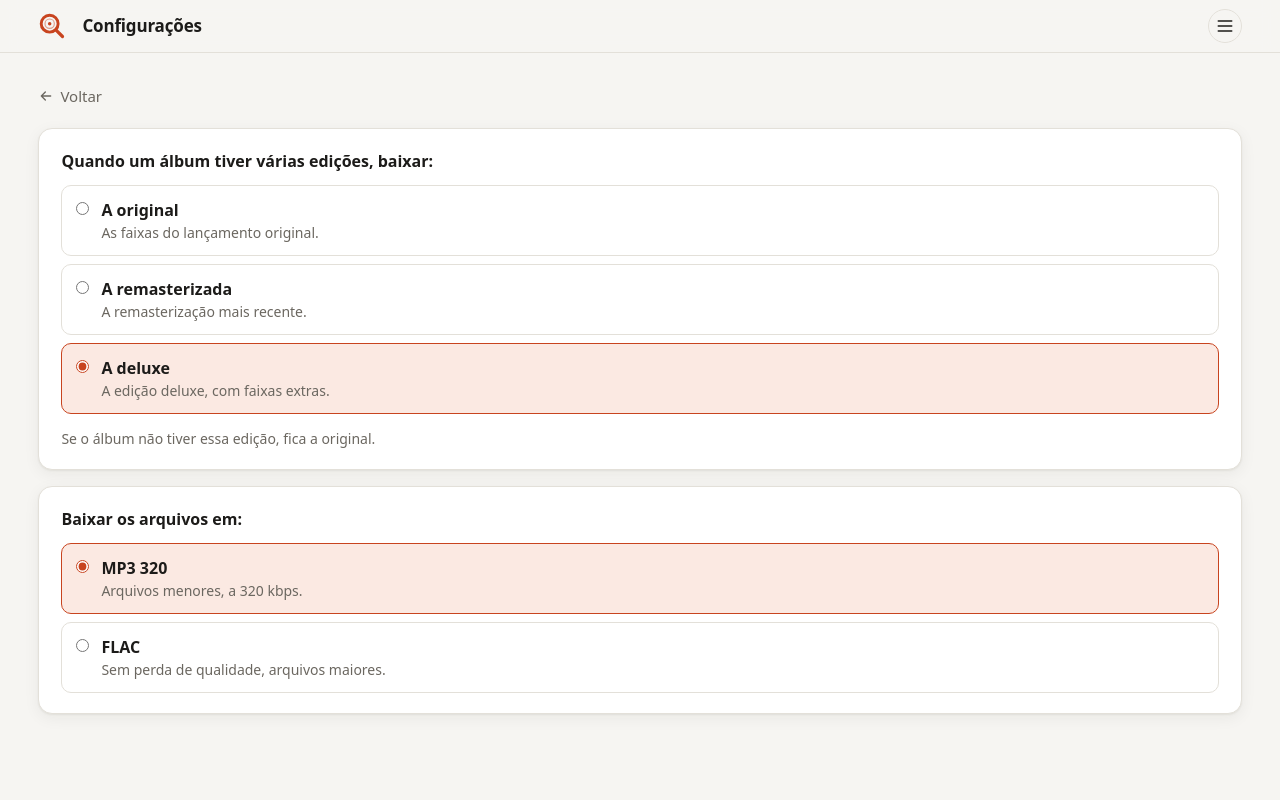
Test case: SettingsPage › salva a qualidade escolhida, mantendo a edição
The image size is (1280, 800).
What coordinates should you click on to do the following:
click the radio button labelled "FLAC Sem perda de qualidade, arquivos maiores."
I would click on:
 (83, 645)
Its box is [76,638,89,652].
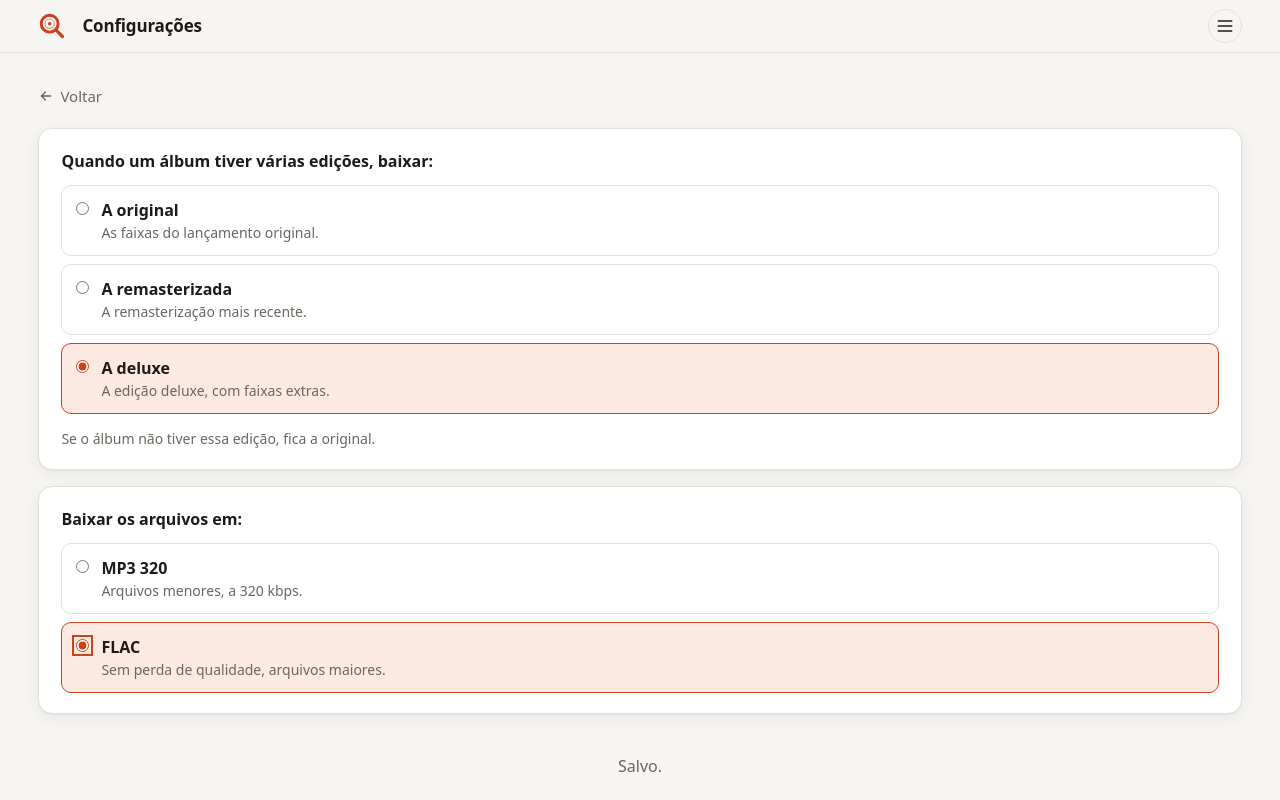
Expected: the radio button labelled "A deluxe A edição deluxe, com faixas extras." is checked, [76,360,89,372]
Now the radio button labelled "FLAC Sem perda de qualidade, arquivos maiores." is checked, box [76,638,89,652]
Now the text "Salvo." is shown, box [618,754,662,776]
